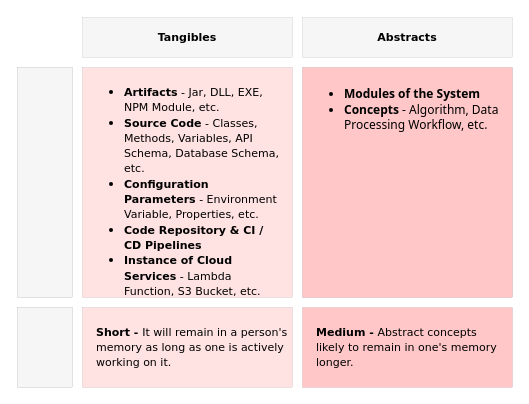
The diagram is 529 pixels wide and 404 high, and some of its shapes have lost their labels. The shapes that lost their labels are listed below. From the top down, each one's box as (x1, y1, x2, y2) in pixels, then its label:
(17, 67, 72, 297): Names
(17, 307, 72, 387): Memory Life Span
